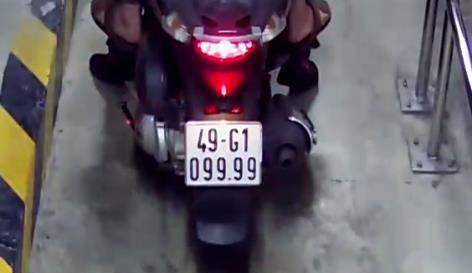lisence: (185, 120, 263, 187)
